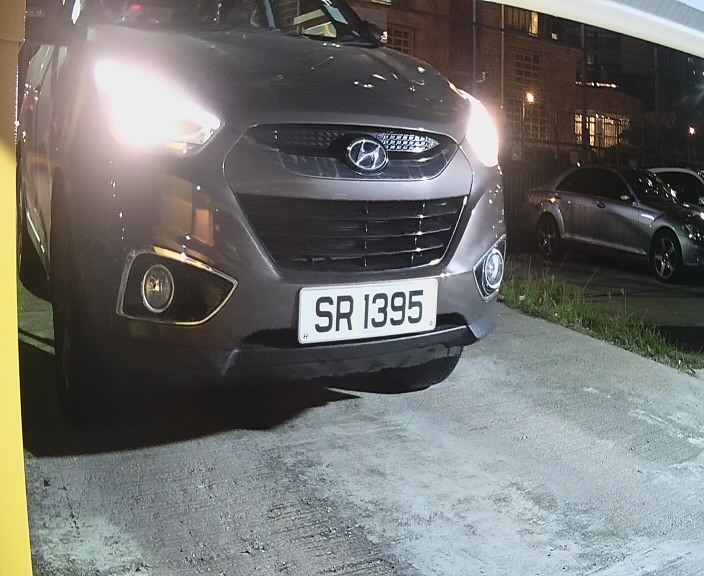Car: (21, 2, 527, 437)
License Plate: (292, 273, 447, 347)
